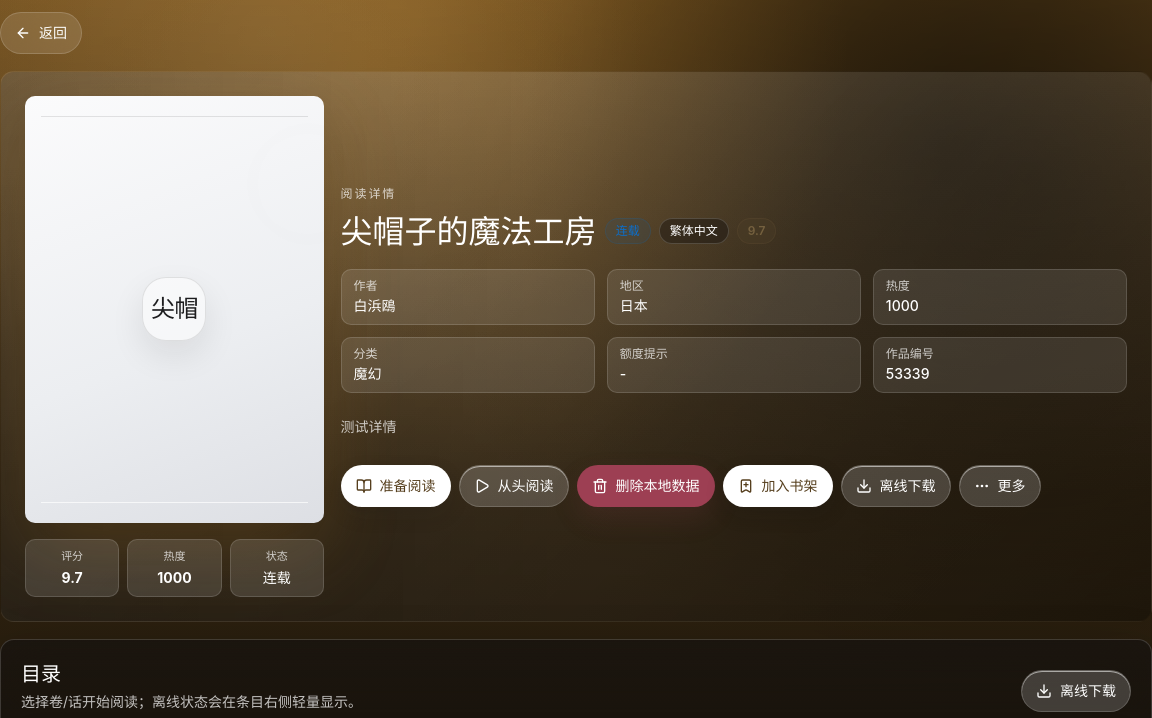
Test: Detail reader entry › deletes local reading data for a directory entry without faking success
The image size is (1152, 718).
Expected: the heading "尖帽子的魔法工房" is shown, [341, 214, 597, 249]
Click the button "删除本地数据" at (646,486), box [577, 465, 715, 507]
(page scrolled)
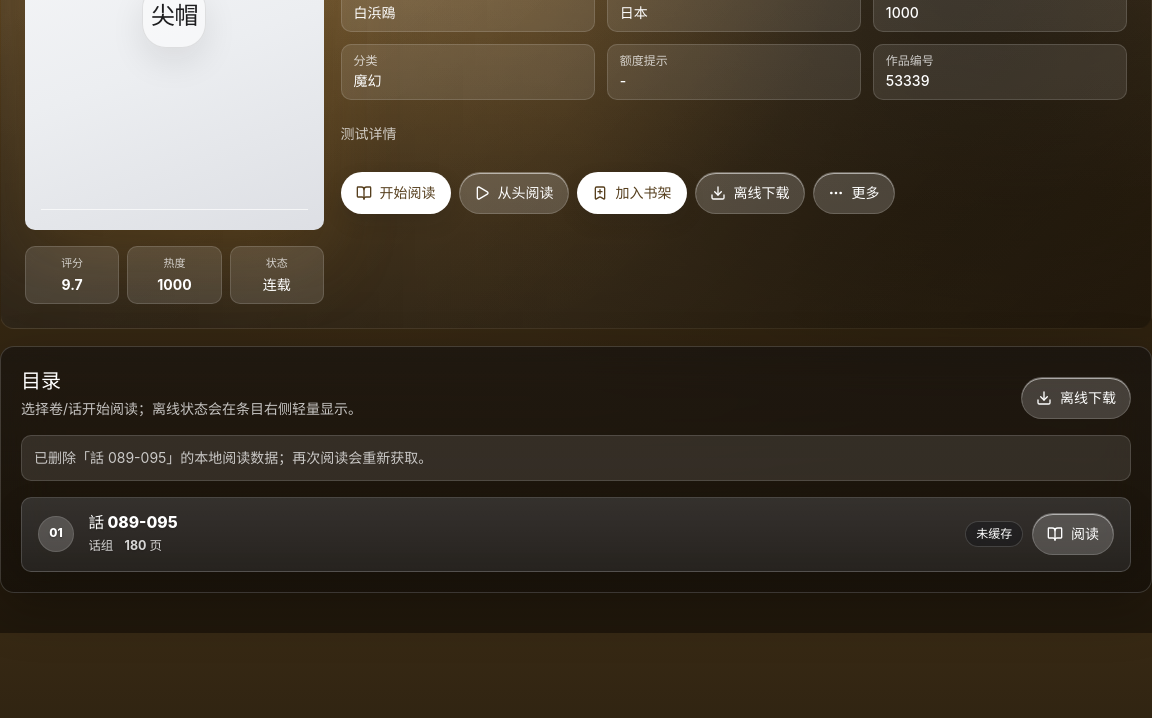
Expected: the text "已删除「話 089-095」的本地阅读数据；再次阅读会重新获取。" is shown, [21, 435, 1131, 481]
